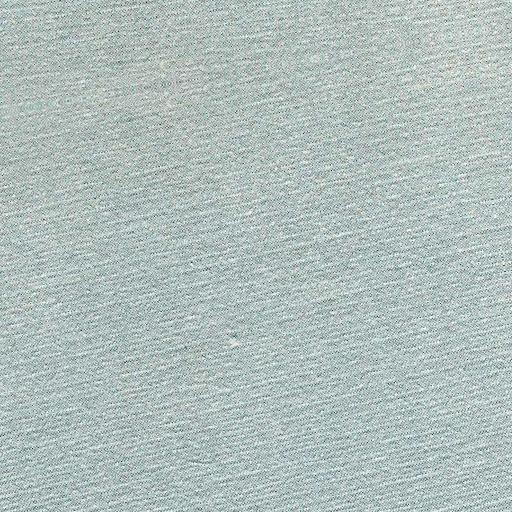knot: (223, 326, 254, 361)
